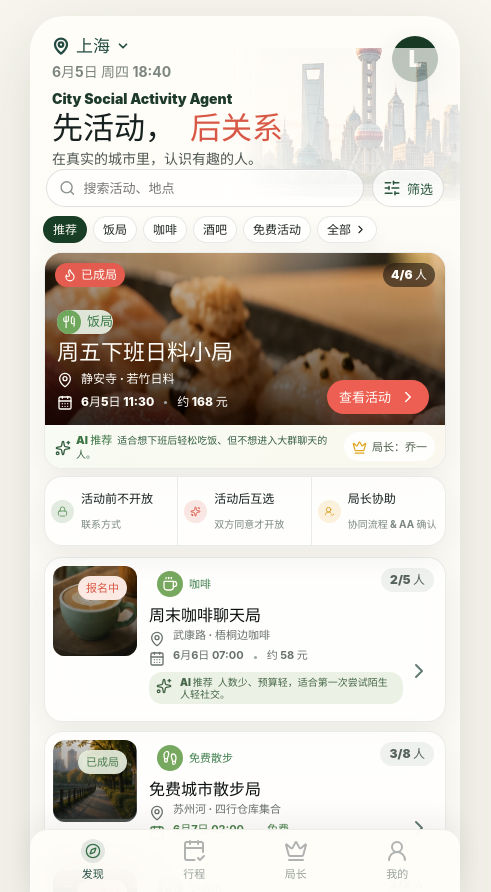
Test: App discovery flow › opens an activity detail page from the feed
Click the button with aria-label "查看 周五下班日料小局" at point(378, 397), box [327,380,429,414]
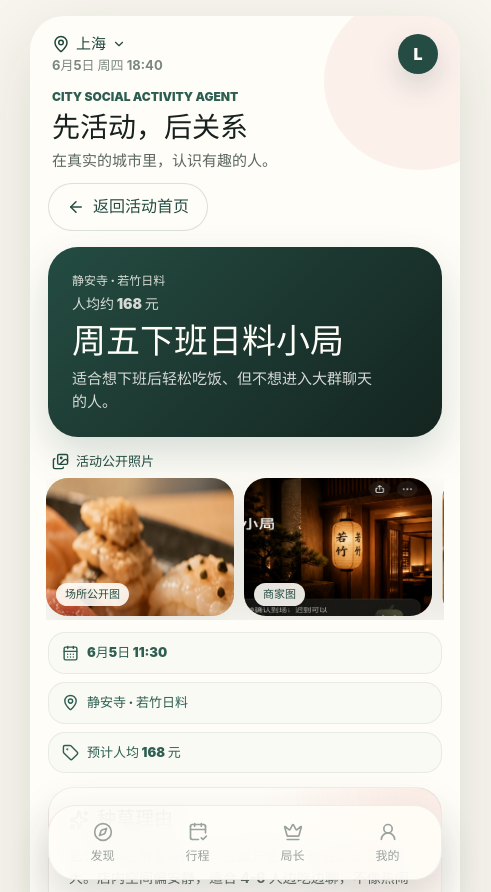
Expected: the heading "周五下班日料小局" is shown, [72,320,344,361]
Expected: the button "返回活动首页" is shown, [48,183,208,231]
